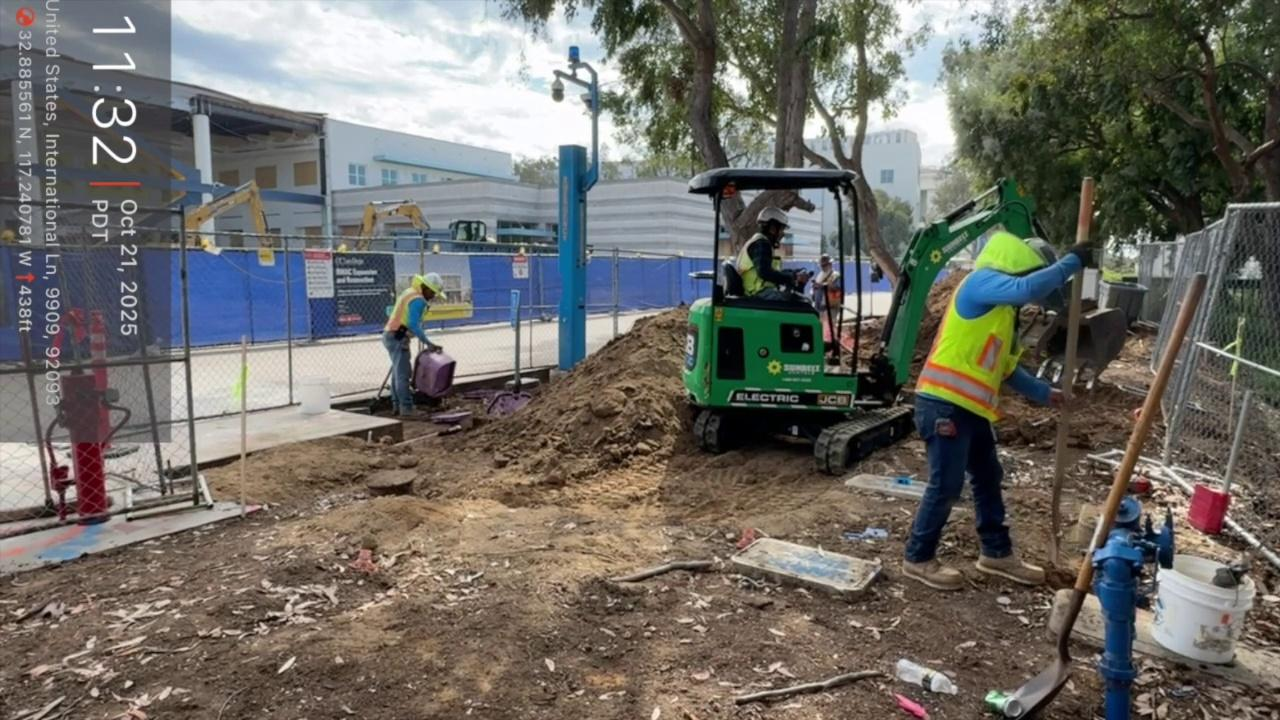Exacavator: (677, 164, 1099, 476)
